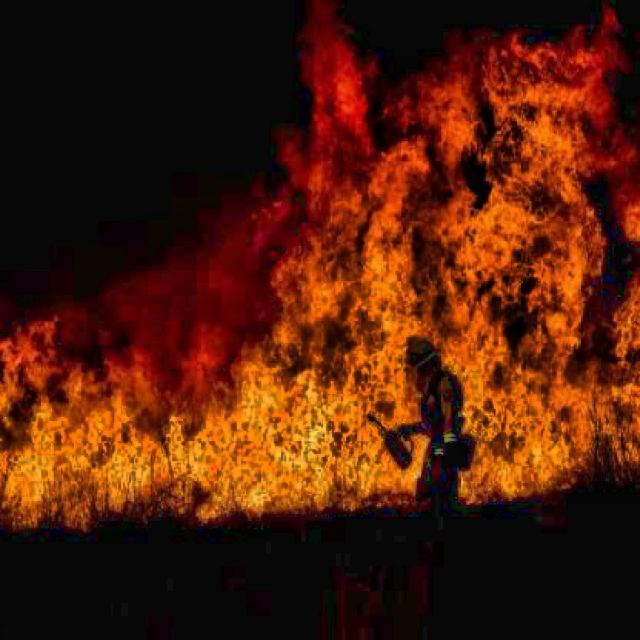Fire: (1, 34, 640, 528)
